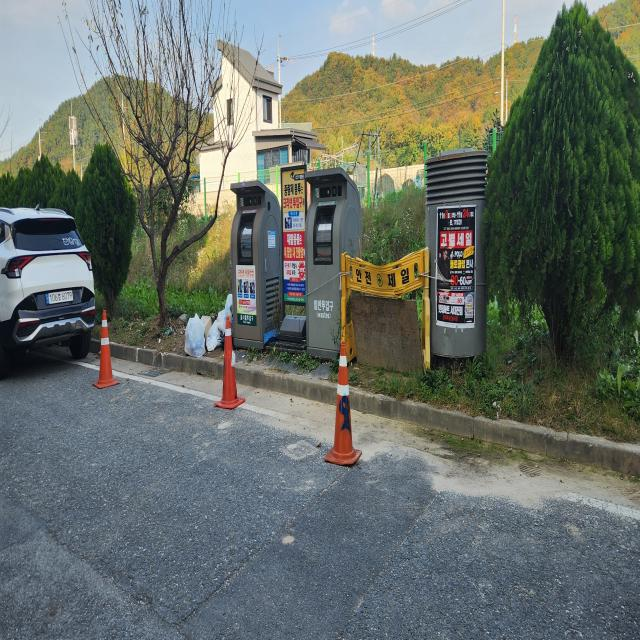CleanNet: (300, 164, 370, 367), (224, 165, 288, 360)
General Waste: (184, 284, 248, 374)
